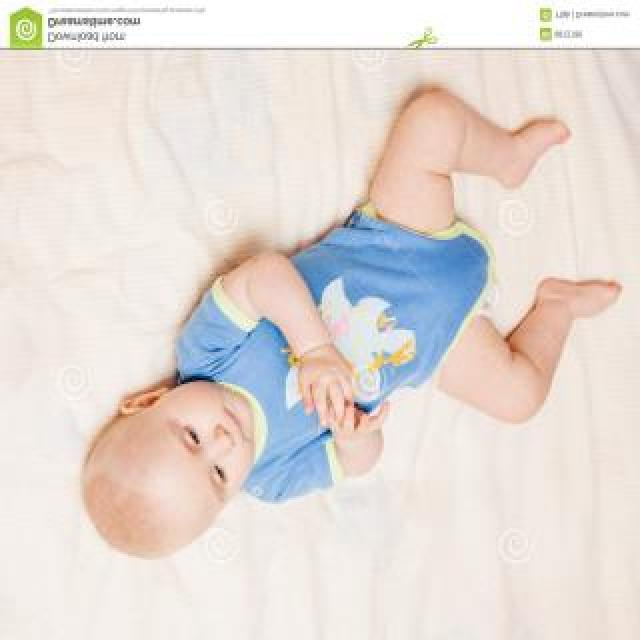baby: (74, 83, 620, 565)
